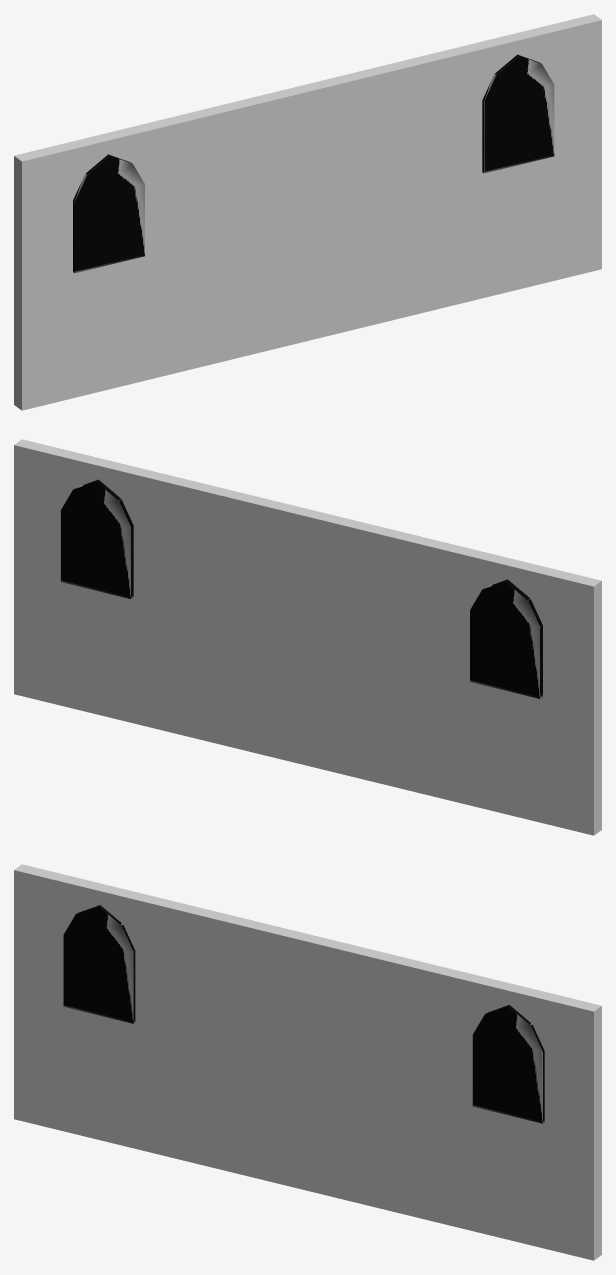
The model's file is janela.FBX.
3 views of the same model, one above another, from view 1: azimuth 30°, elevation 25°; view 2: azimuth 150°, elevation 25°; view 3: azimuth 330°, elevation 25° (orthographic).
Visible parts, largest first — view 1: Box001, Box003; view 2: Box001, Box003; view 3: Box001, Box003.
Part boxes in pixels (x1=…): Box001: x1=14, y1=14, x2=601, y2=410; Box003: x1=73, y1=54, x2=554, y2=273; Box001: x1=14, y1=439, x2=601, y2=835; Box003: x1=60, y1=479, x2=542, y2=698; Box001: x1=14, y1=864, x2=601, y2=1260; Box003: x1=63, y1=905, x2=544, y2=1123.
Size of the model in its own units: 130 by 53.36 by 4.87.
Materials: 1 (1 with a texture image).
